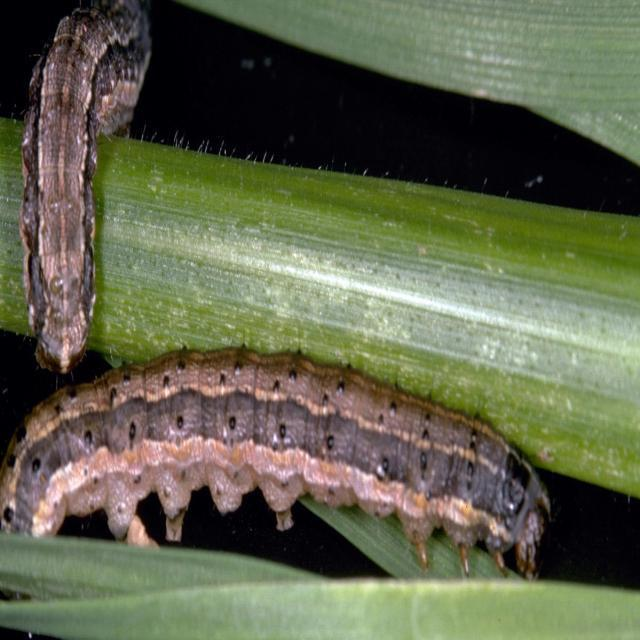army worm: (13, 277, 557, 616), (2, 9, 159, 359)
